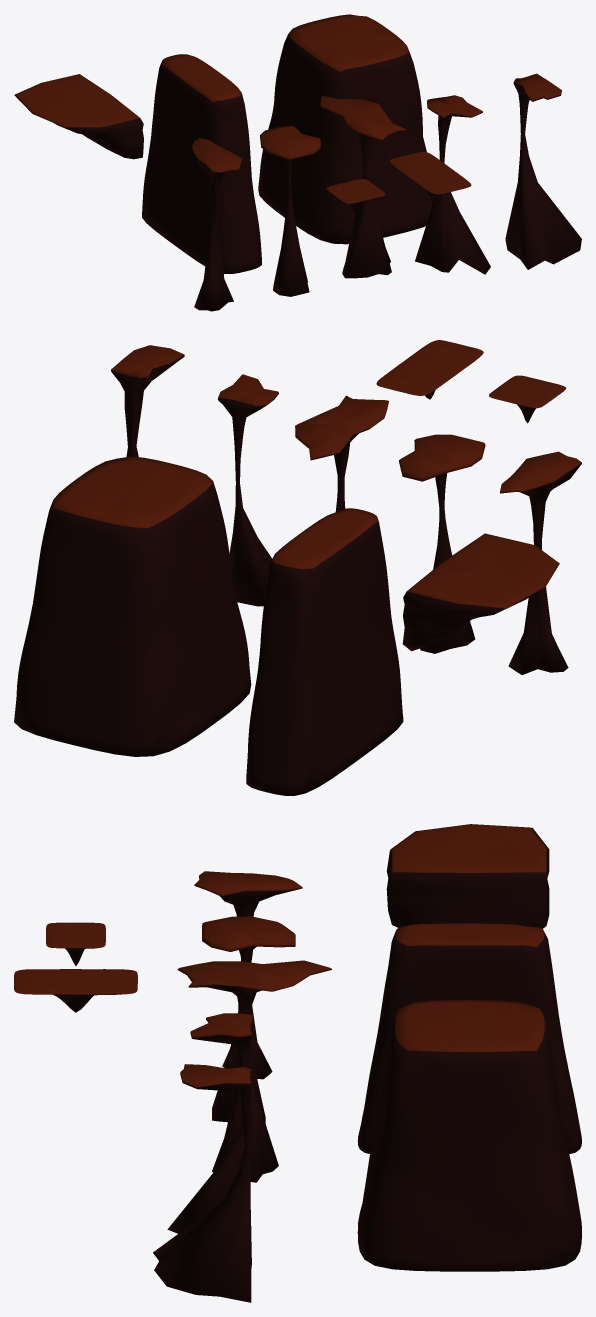
Rendered from LVL2.glb.
The picture shows the model from 3 angles, top to bottom: view 1: azimuth 30°, elevation 25°; view 2: azimuth 150°, elevation 25°; view 3: azimuth 270°, elevation 25°; orthographic projection. The views are drawn at different scales.
Parts seen in each view (by area): view 1: Cube.008, Cube.006, Cube.004, Cube.007, Cube.003, Cube.005, Cube.001, Cube.002, Cube.009, Cube.010; view 2: Cube.008, Cube.006, Cube.007, Cube.002, Cube.005, Cube.001, Cube.003, Cube.009, Cube.004, Cube.010; view 3: Cube.008, Cube.006, Cube.007, Cube.004, Cube.003, Cube.005, Cube.001, Cube.009, Cube.002, Cube.010.
Part boxes in pixels (<box>): Cube.008: <box>258,14,434,244</box>; Cube.006: <box>142,54,261,273</box>; Cube.004: <box>505,73,581,269</box>; Cube.007: <box>14,74,143,159</box>; Cube.003: <box>320,96,406,278</box>; Cube.005: <box>415,95,490,274</box>; Cube.001: <box>260,126,320,296</box>; Cube.002: <box>192,138,242,311</box>; Cube.009: <box>389,152,471,197</box>; Cube.010: <box>326,179,385,214</box>; Cube.008: <box>14,456,251,756</box>; Cube.006: <box>246,508,403,795</box>; Cube.007: <box>402,533,559,651</box>; Cube.002: <box>500,451,581,674</box>; Cube.005: <box>218,374,278,606</box>; Cube.001: <box>399,434,485,653</box>; Cube.003: <box>295,395,388,511</box>; Cube.009: <box>376,340,483,399</box>; Cube.004: <box>111,345,184,457</box>; Cube.010: <box>489,375,566,423</box>; Cube.008: <box>357,1000,581,1271</box>; Cube.006: <box>357,923,581,1153</box>; Cube.007: <box>386,824,549,928</box>; Cube.004: <box>153,1064,251,1302</box>; Cube.003: <box>177,960,331,1182</box>; Cube.005: <box>167,1013,252,1233</box>; Cube.001: <box>202,916,295,1123</box>; Cube.009: <box>14,969,137,1012</box>; Cube.002: <box>194,871,302,1079</box>; Cube.010: <box>46,922,105,965</box>.
Bounding box in the file's own units: 117 × 42.32 × 100.
